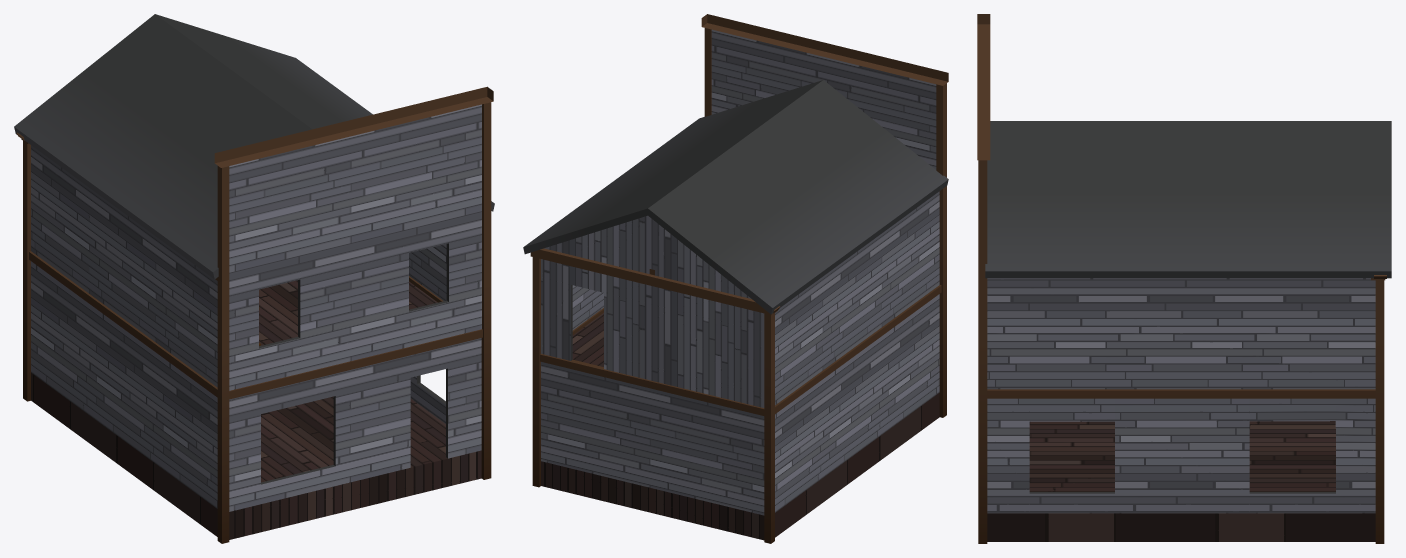
The model's file is House 7 M Gray.glb.
3 renders of one model, left to right at view 1: azimuth 30°, elevation 25°; view 2: azimuth 150°, elevation 25°; view 3: azimuth 270°, elevation 25°, orthographic. The views are drawn at different scales.
Parts seen in each view (by area): view 1: House 7 M Gray; view 2: House 7 M Gray; view 3: House 7 M Gray.
Part boxes in pixels (bbox=[...]): House 7 M Gray: bbox=[14, 14, 494, 543]; House 7 M Gray: bbox=[523, 14, 948, 543]; House 7 M Gray: bbox=[977, 14, 1391, 543].
Size of what is drawn, in the model's own units: 7.53 by 9.88 by 9.39.
3 materials, 3 textured.
